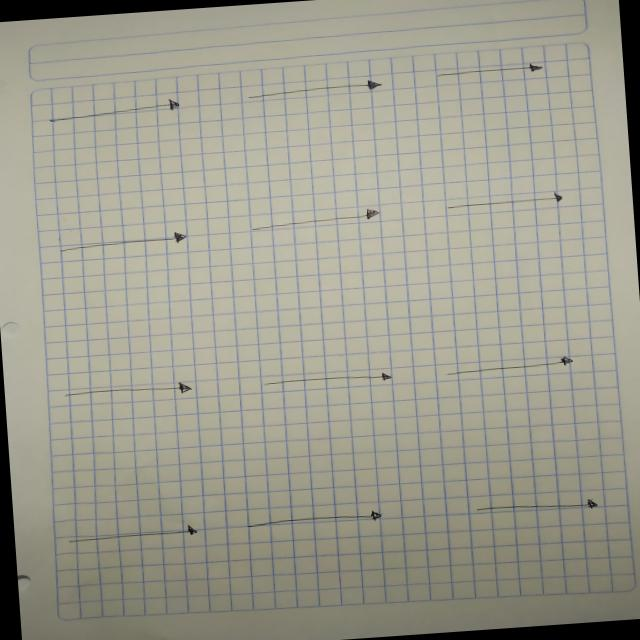arrow_line_right: (233, 497, 411, 545), (434, 344, 598, 392), (46, 370, 206, 414), (32, 90, 191, 132), (454, 485, 613, 526), (61, 511, 209, 554), (252, 358, 396, 402), (432, 182, 574, 225), (240, 200, 387, 238), (48, 225, 202, 260), (235, 72, 397, 104), (426, 56, 558, 90)
